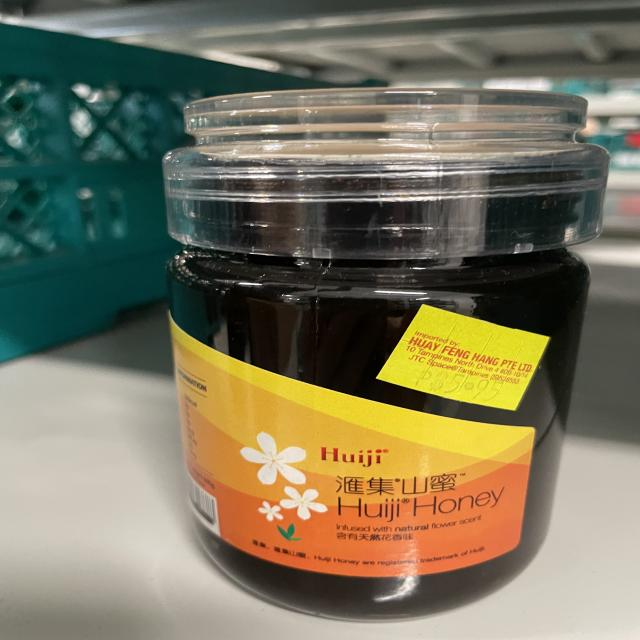object_name: (173, 104, 567, 621)
